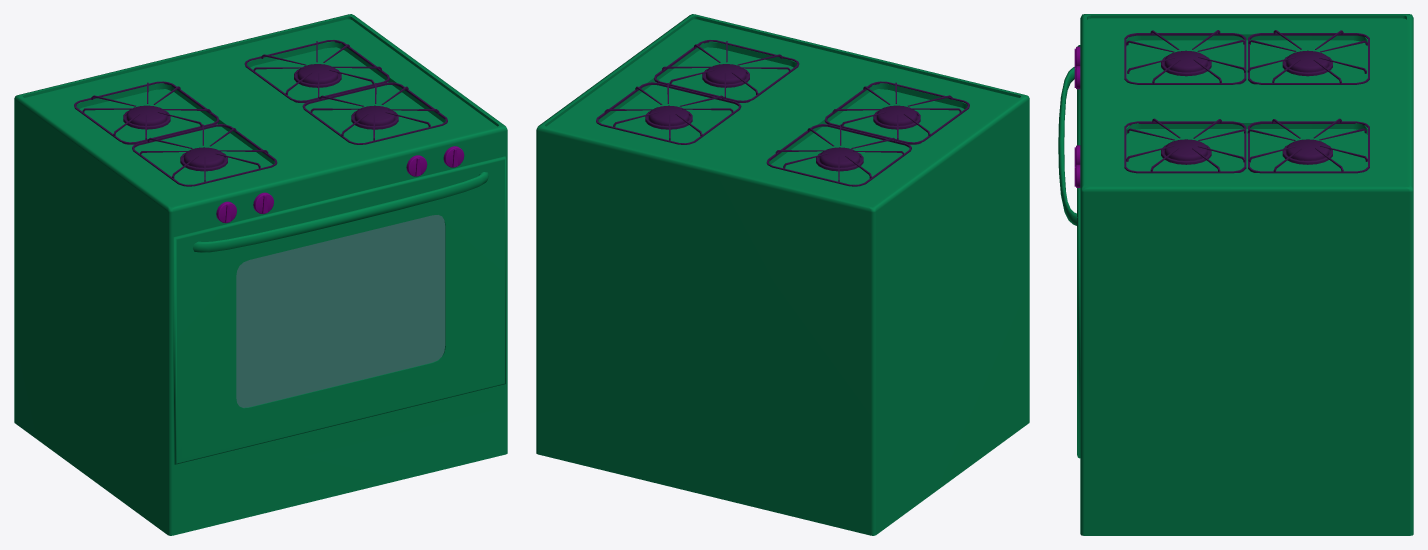
Rendered from SM_Kitchen_Stove.fbx.
3 renders of one model, left to right at view 1: azimuth 30°, elevation 25°; view 2: azimuth 150°, elevation 25°; view 3: azimuth 270°, elevation 25°, orthographic. The views are drawn at different scales.
Parts seen in each view (by area): view 1: SM_Kitchen_Stove, SM_Kitchen_Stove_Door; view 2: SM_Kitchen_Stove; view 3: SM_Kitchen_Stove, SM_Kitchen_Stove_Door.
Part boxes in pixels (x1,y1,x2,y2): SM_Kitchen_Stove: (14,14,507,535); SM_Kitchen_Stove_Door: (173,156,505,464); SM_Kitchen_Stove: (536,14,1029,535); SM_Kitchen_Stove: (1080,14,1413,535); SM_Kitchen_Stove_Door: (1058,45,1080,458).
Size of the model in its own units: 125 by 116 by 107.
